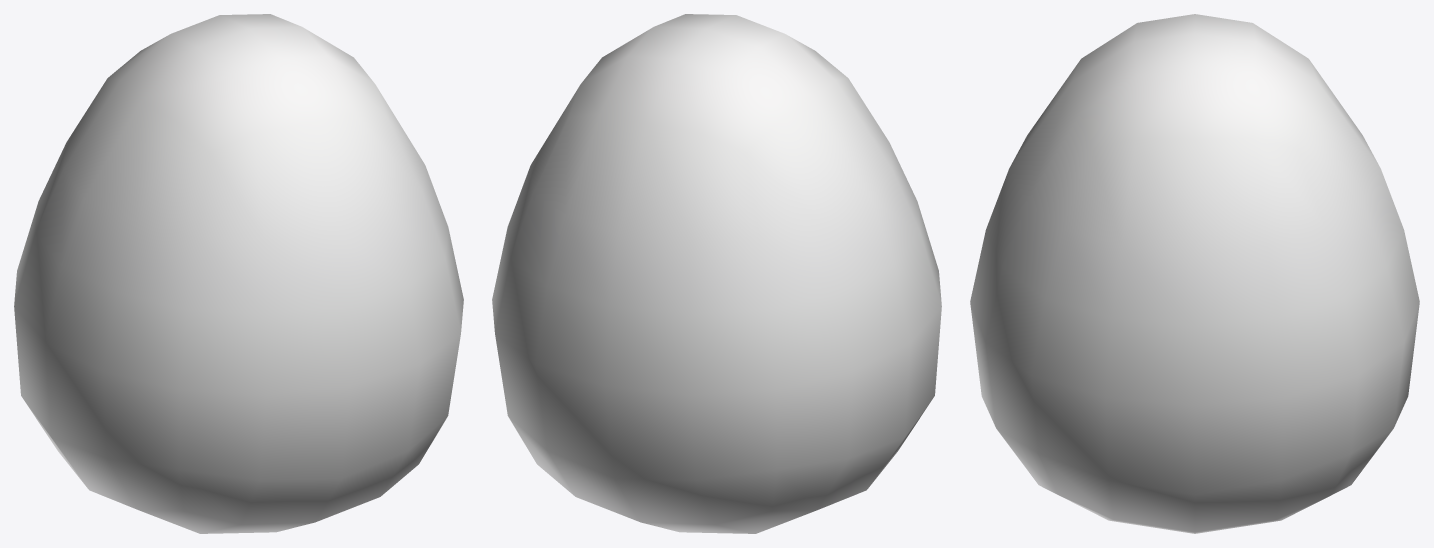
Rendered from Egg_01_Boiled_01.fbx.
The picture shows the model from 3 angles, left to right: view 1: azimuth 30°, elevation 25°; view 2: azimuth 150°, elevation 25°; view 3: azimuth 270°, elevation 25°; orthographic projection.
Visible parts, largest first — view 1: Egg_01_Boiled_01; view 2: Egg_01_Boiled_01; view 3: Egg_01_Boiled_01.
Part boxes in pixels (left/top/right/bottom): Egg_01_Boiled_01: left=14, top=14, right=463, bottom=533; Egg_01_Boiled_01: left=492, top=14, right=941, bottom=533; Egg_01_Boiled_01: left=970, top=14, right=1419, bottom=533.
Bounding box in the file's own units: 32.25 × 38.01 × 32.27.
